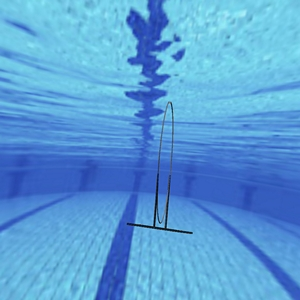circle: (127, 98, 194, 235)
